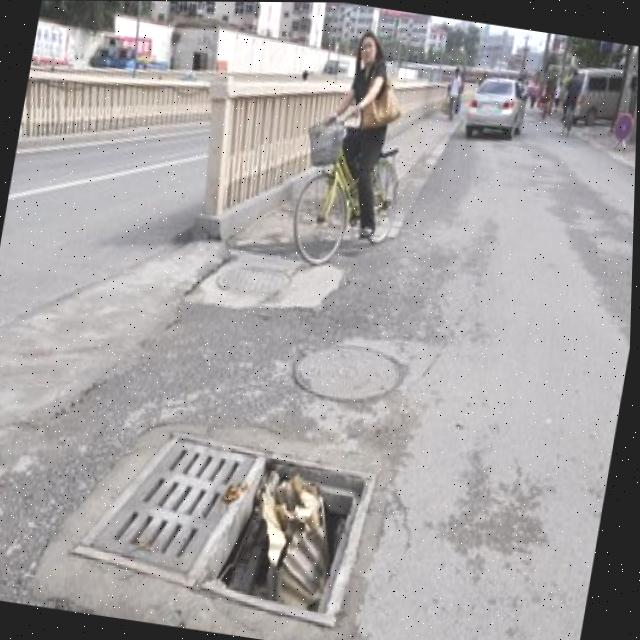manhole: (73, 405, 383, 633)
